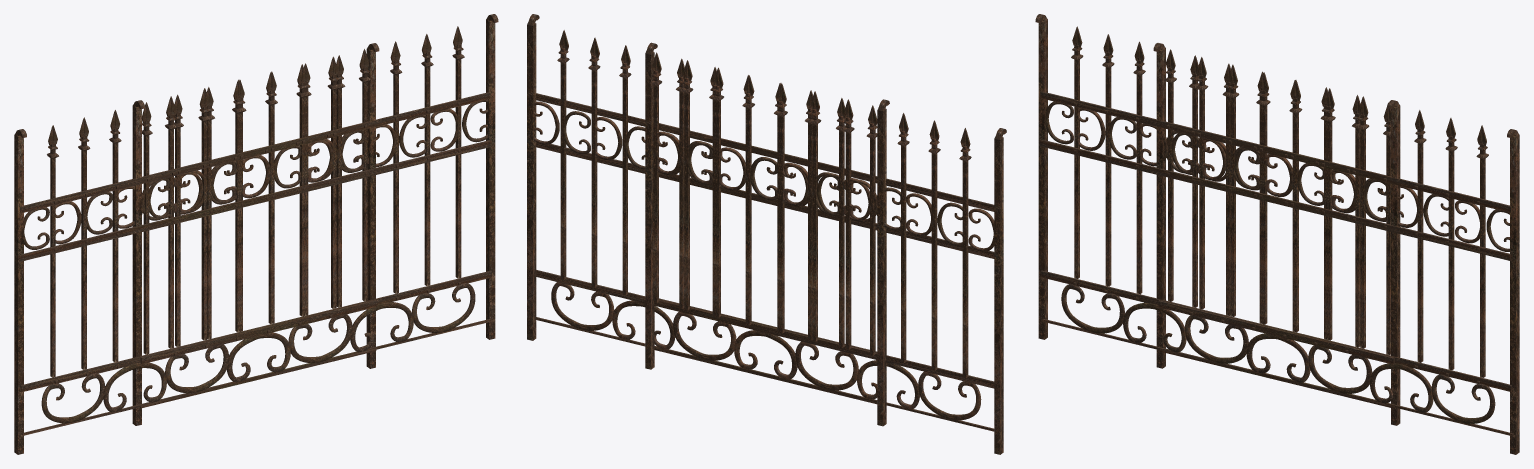
Rendered from portao.fbx.
The picture shows the model from 3 angles, left to right: view 1: azimuth 30°, elevation 25°; view 2: azimuth 150°, elevation 25°; view 3: azimuth 330°, elevation 25°; orthographic projection.
Visible parts, largest first — view 1: Cube, Cube.014, Cube.007, Cube.021, Cube.002, Cube.001, Cube.012, Cube.006, Cube.013, Cube.003, Cube.005, Cube.017 (+8 smaller); view 2: Cube, Cube.014, Cube.007, Cube.021, Cube.003, Cube.012, Cube.006, Cube.013, Cube.005, Cube.001, Cube.002, Cube.008 (+6 smaller); view 3: Cube, Cube.014, Cube.007, Cube.021, Cube.001, Cube.002, Cube.012, Cube.006, Cube.013, Cube.005, Cube.003, Cube.017 (+10 smaller).
Part boxes in pixels (x1,y1,x2,y2): Cube: (47, 44, 464, 377); Cube.014: (165, 73, 345, 348); Cube.007: (14, 14, 498, 454); Cube.021: (132, 43, 379, 425); Cube.002: (19, 140, 490, 261); Cube.001: (20, 92, 490, 213); Cube.012: (41, 283, 475, 423); Cube.006: (24, 99, 488, 249); Cube.013: (103, 302, 413, 412); Cube.003: (20, 271, 491, 392); Cube.005: (55, 109, 457, 244); Cube.017: (140, 300, 376, 364); Cube: (557, 47, 971, 377); Cube.014: (676, 76, 854, 349); Cube.007: (527, 14, 1006, 454); Cube.021: (645, 42, 889, 426); Cube.003: (536, 270, 994, 388); Cube.012: (551, 282, 981, 420); Cube.006: (534, 101, 994, 251); Cube.013: (612, 300, 919, 409); Cube.005: (564, 111, 962, 245); Cube.001: (535, 93, 994, 211); Cube.002: (536, 142, 994, 258); Cube.008: (559, 30, 970, 148); Cube: (1071, 44, 1488, 377); Cube.014: (1189, 73, 1369, 348); Cube.007: (1035, 14, 1519, 454); Cube.021: (1153, 43, 1400, 425); Cube.001: (1040, 91, 1511, 212); Cube.002: (1039, 139, 1510, 260); Cube.012: (1061, 284, 1495, 423); Cube.006: (1045, 101, 1509, 251); Cube.013: (1123, 302, 1433, 412); Cube.005: (1078, 108, 1479, 243); Cube.003: (1040, 270, 1511, 391); Cube.017: (1158, 300, 1394, 364).
Size of the model in its own units: 402 by 261 by 12.01.
